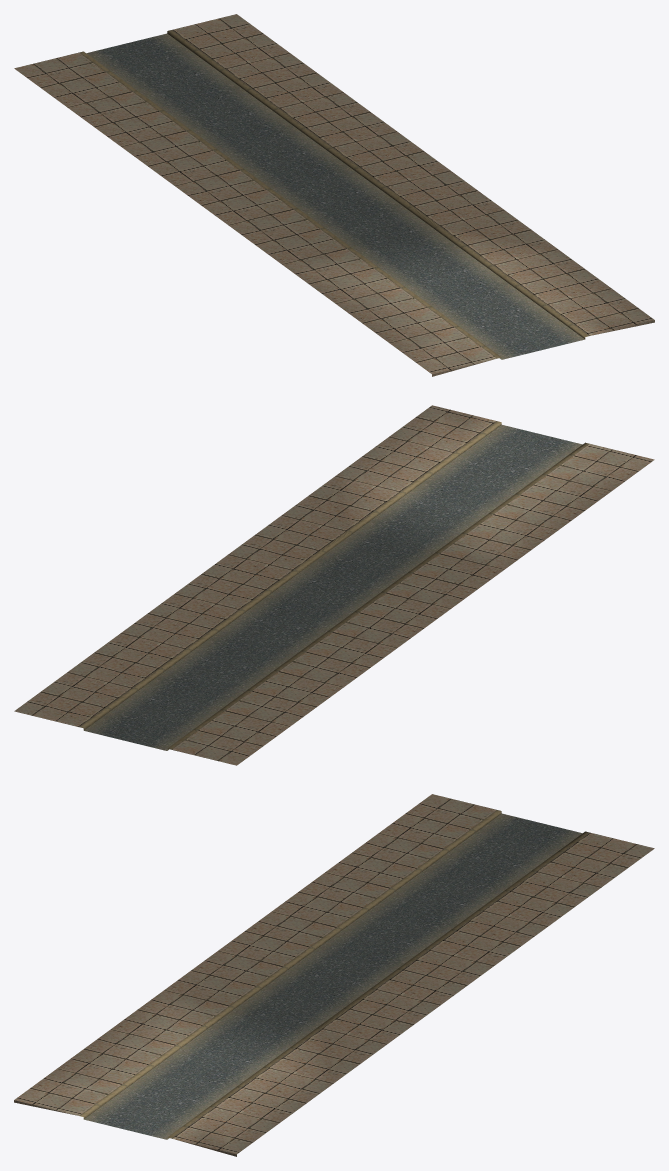
The model's file is M11Z1_Floor_Tunnel1.glb.
The picture shows the model from 3 angles, top to bottom: view 1: azimuth 30°, elevation 25°; view 2: azimuth 150°, elevation 25°; view 3: azimuth 330°, elevation 25°; orthographic projection.
Parts seen in each view (by area): view 1: M11Z1_FLOOR_TUNNEL1002, M11Z1_FLOOR_TUNNEL1004, M11Z1_FLOOR_TUNNEL1006, M11Z1_FLOOR_TUNNEL1, M11Z1_FLOOR_TUNNEL1001, M11Z1_FLOOR_TUNNEL1003, M11Z1_FLOOR_TUNNEL1005, M11Z1_FLOOR_TUNNEL1007; view 2: M11Z1_FLOOR_TUNNEL1006, M11Z1_FLOOR_TUNNEL1002, M11Z1_FLOOR_TUNNEL1004, M11Z1_FLOOR_TUNNEL1, M11Z1_FLOOR_TUNNEL1001, M11Z1_FLOOR_TUNNEL1007, M11Z1_FLOOR_TUNNEL1005, M11Z1_FLOOR_TUNNEL1003; view 3: M11Z1_FLOOR_TUNNEL1002, M11Z1_FLOOR_TUNNEL1006, M11Z1_FLOOR_TUNNEL1004, M11Z1_FLOOR_TUNNEL1, M11Z1_FLOOR_TUNNEL1001, M11Z1_FLOOR_TUNNEL1003, M11Z1_FLOOR_TUNNEL1007, M11Z1_FLOOR_TUNNEL1005.
Part boxes in pixels (x1=…): M11Z1_FLOOR_TUNNEL1002: x1=229, y1=187, x2=557, y2=303; M11Z1_FLOOR_TUNNEL1004: x1=122, y1=108, x2=450, y2=225; M11Z1_FLOOR_TUNNEL1006: x1=14, y1=30, x2=343, y2=146; M11Z1_FLOOR_TUNNEL1: x1=336, y1=265, x2=617, y2=376; M11Z1_FLOOR_TUNNEL1001: x1=494, y1=249, x2=654, y2=335; M11Z1_FLOOR_TUNNEL1003: x1=386, y1=171, x2=557, y2=249; M11Z1_FLOOR_TUNNEL1005: x1=280, y1=92, x2=450, y2=170; M11Z1_FLOOR_TUNNEL1007: x1=172, y1=14, x2=343, y2=92; M11Z1_FLOOR_TUNNEL1006: x1=67, y1=633, x2=343, y2=765; M11Z1_FLOOR_TUNNEL1002: x1=282, y1=476, x2=557, y2=608; M11Z1_FLOOR_TUNNEL1004: x1=175, y1=554, x2=450, y2=686; M11Z1_FLOOR_TUNNEL1: x1=389, y1=414, x2=654, y2=530; M11Z1_FLOOR_TUNNEL1001: x1=336, y1=405, x2=468, y2=491; M11Z1_FLOOR_TUNNEL1007: x1=14, y1=633, x2=132, y2=726; M11Z1_FLOOR_TUNNEL1005: x1=121, y1=554, x2=239, y2=648; M11Z1_FLOOR_TUNNEL1003: x1=229, y1=476, x2=346, y2=569; M11Z1_FLOOR_TUNNEL1002: x1=111, y1=951, x2=386, y2=1083; M11Z1_FLOOR_TUNNEL1006: x1=325, y1=794, x2=601, y2=926; M11Z1_FLOOR_TUNNEL1004: x1=218, y1=872, x2=493, y2=1005; M11Z1_FLOOR_TUNNEL1: x1=14, y1=1029, x2=279, y2=1145; M11Z1_FLOOR_TUNNEL1001: x1=176, y1=1068, x2=332, y2=1156; M11Z1_FLOOR_TUNNEL1003: x1=322, y1=989, x2=439, y2=1083; M11Z1_FLOOR_TUNNEL1007: x1=536, y1=832, x2=654, y2=926; M11Z1_FLOOR_TUNNEL1005: x1=429, y1=911, x2=546, y2=1004.
Bounding box in the file's own units: 9.6 × 0.1 × 31.2.
Materials: 3 (3 with a texture image).
